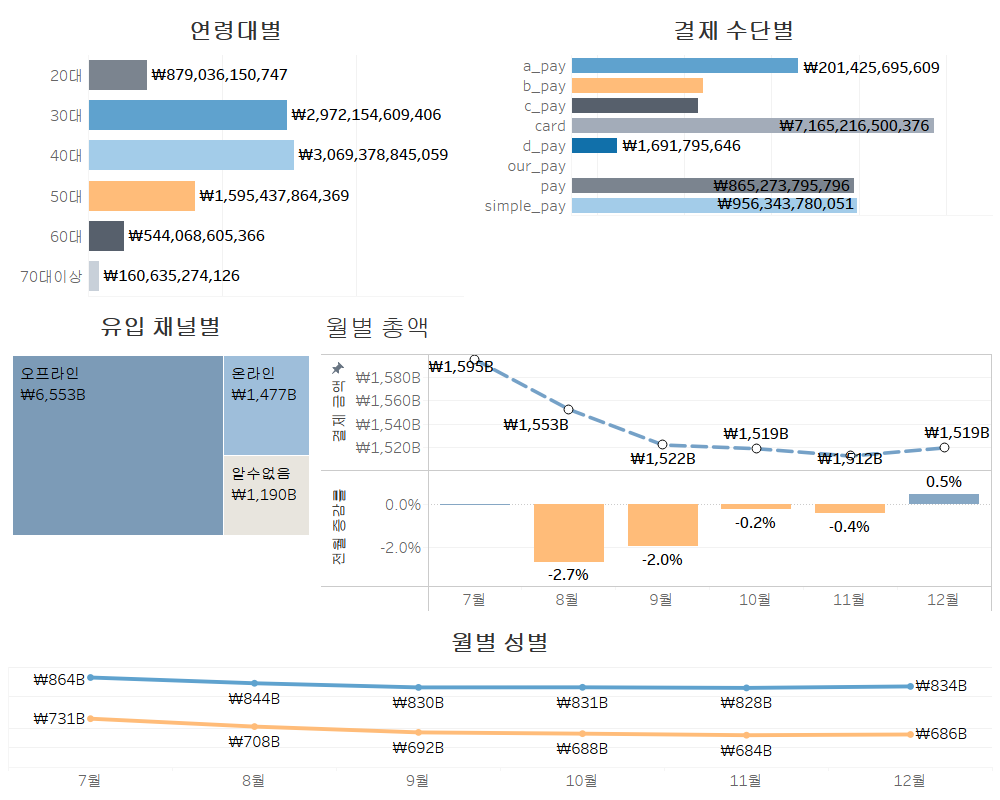

This screenshot's page, from the dashboard's own definition file:
{"tool":"tableau","page":{"name":"대시보드 1","canvas":[1000,800],"ordinal":0},"visuals":[{"type":"worksheet","title":"연령대별 총액","mark":"Bar","rows":["age_group"],"cols":["monthly_age_amt"],"box":[4,4,463,296]},{"type":"worksheet","title":"결제 수단별","mark":"Bar","rows":["payment_name"],"cols":["monthly_payment_amt"],"box":[467,4,529,296]},{"type":"worksheet","title":"결제 채널별","mark":"Square","box":[4,300,313,316]},{"type":"worksheet","title":"월별 총액","mark":"Automatic","rows":["monthly_amt","monthly_amt","Calculation_1721782449430466560"],"cols":["used_date"],"box":[317,300,679,316]},{"type":"worksheet","title":"성별 월별","mark":"Line","rows":["monthly_gender_amt"],"cols":["used_date (dm_monthly_gender_amt)"],"box":[4,616,992,180]}]}

Visuals, with their boxes in screenshot pixels (x1, y1, x2, y2), scaled from the page's 1000x800 canvas onto the 1000x800 screenshot:
"연령대별 총액" worksheet (Bar marks): 4, 4, 467, 300
"결제 수단별" worksheet (Bar marks): 467, 4, 996, 300
"결제 채널별" worksheet (Square marks): 4, 300, 317, 616
"월별 총액" worksheet: 317, 300, 996, 616
"성별 월별" worksheet (Line marks): 4, 616, 996, 796
